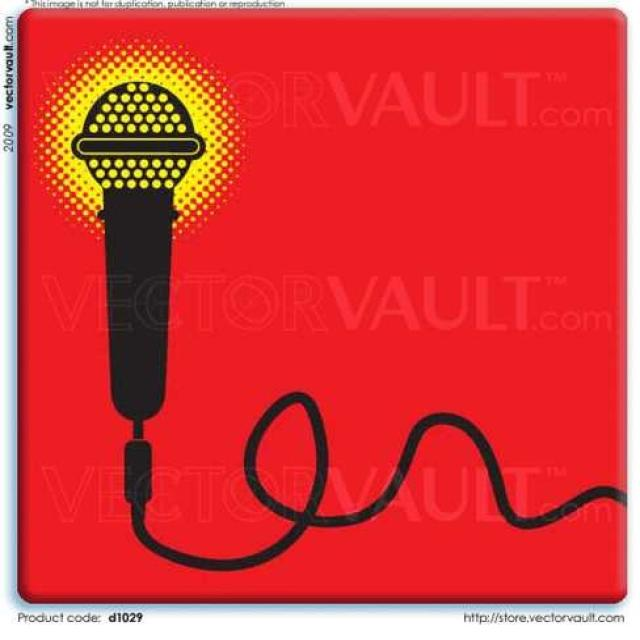microphone: (68, 83, 210, 483)
